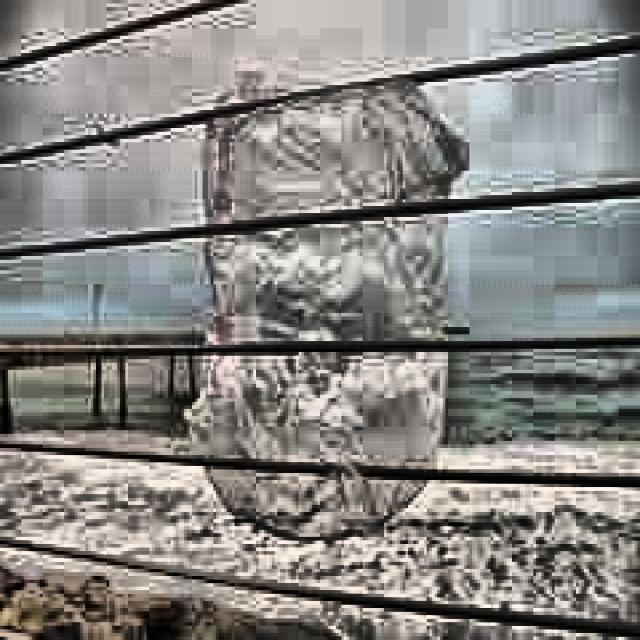Plastic: (188, 67, 468, 544)
